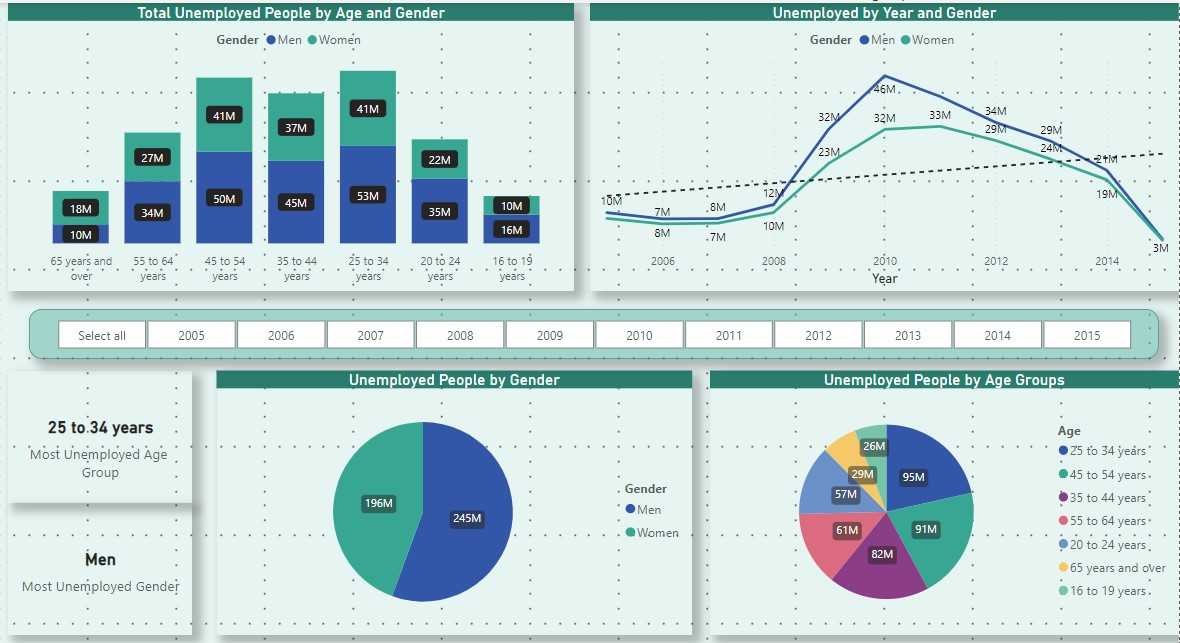

What the dashboard file says about the page in this screenshot:
{"tool":"powerbi","page":{"name":"Unemployment Data Report","canvas":[1280,720],"ordinal":0},"visuals":[{"type":"columnChart","title":"Total Unemployed People by Age and Gender","fields":{"Category":["Unemployment Dataset.Age"],"Y":["Sum(Unemployment Dataset.Unemployed)"],"Series":["Unemployment Dataset.Gender"]},"box":[9.4,0,614.2,311.8],"z":0},{"type":"pieChart","title":"Unemployed People by Gender","fields":{"Y":["Sum(Unemployment Dataset.Unemployed)"],"Category":["Unemployment Dataset.Gender"]},"box":[236.2,398.7,515.9,287.2],"z":1000},{"type":"pieChart","title":"Unemployed People by Age Groups","fields":{"Y":["Sum(Unemployment Dataset.Unemployed)"],"Category":["Unemployment Dataset.Age"]},"box":[771,398.7,508.4,287.2],"z":2000},{"type":"lineChart","title":"Unemployed by Year and Gender","fields":{"Category":["Unemployment Dataset.Year"],"Series":["Unemployment Dataset.Gender"],"Y":["Sum(Unemployment Dataset.Unemployed)"]},"box":[640.6,0,638.7,311.8],"z":3000},{"type":"card","fields":{"Values":["Min(Unemployment Dataset.Age)"]},"box":[9.4,398.7,200.3,143.6],"z":4000},{"type":"card","fields":{"Values":["Min(Unemployment Dataset.Gender)"]},"box":[9.4,542.4,200.3,143.6],"z":5000},{"type":"slicer","fields":{"Values":["Unemployment Dataset.Year"]},"box":[32.5,331.9,1225.2,53.7],"z":5001}]}

Visuals, with their boxes on the page's 1280x720 design canvas (x1, y1, x2, y2). These are canvas units, not pixel positions in the 1180x643 screenshot, which may show the page scaled, cropped or inside an application window:
"Total Unemployed People by Age and Gender" columnChart: 9:0:624:312
"Unemployed People by Gender" pieChart: 236:399:752:686
"Unemployed People by Age Groups" pieChart: 771:399:1279:686
"Unemployed by Year and Gender" lineChart: 641:0:1279:312
card - Min(Unemployment Dataset.Age): 9:399:210:542
card - Min(Unemployment Dataset.Gender): 9:542:210:686
slicer - Unemployment Dataset.Year: 32:332:1258:386
